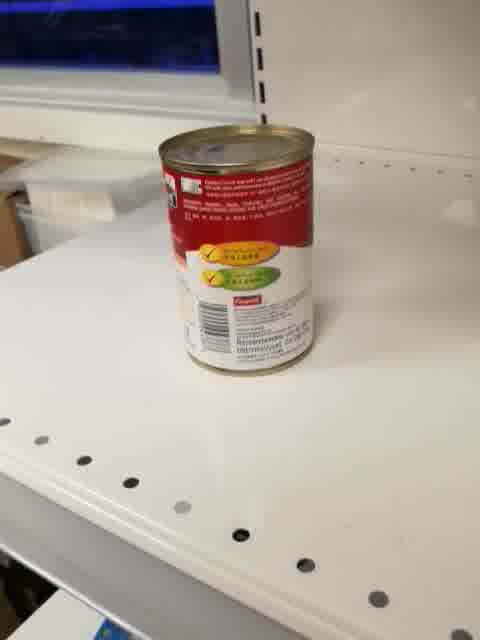tomatosoup: (155, 121, 321, 378)
